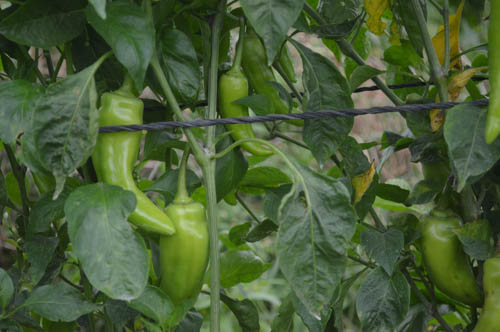ChiliPepper: (97, 93, 177, 238), (418, 216, 480, 308), (245, 38, 306, 124), (160, 204, 208, 306), (223, 76, 274, 158)
